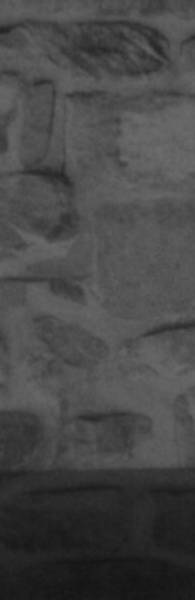water: (0, 470, 195, 600)
